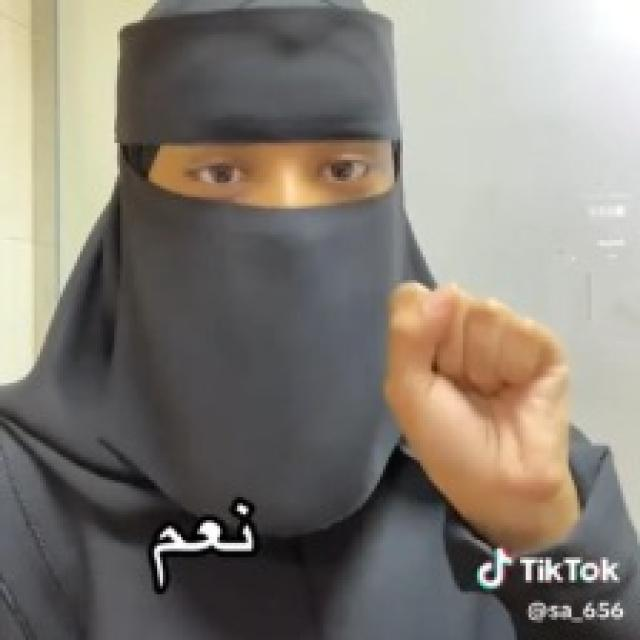yes: (379, 276, 575, 500)
